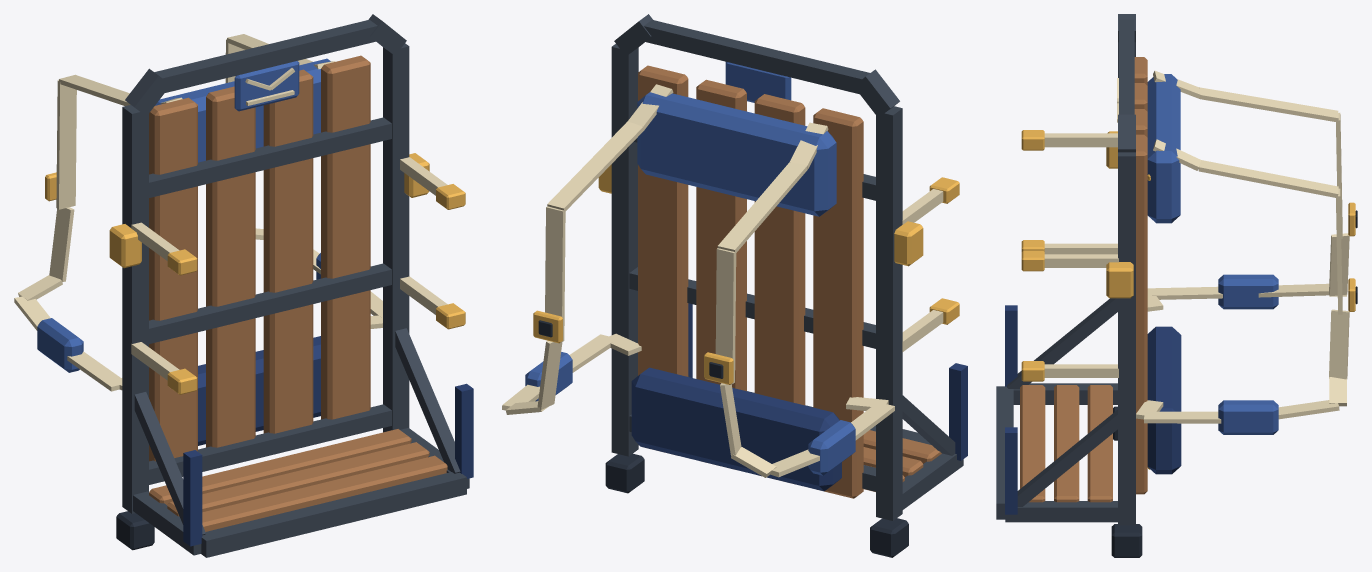
Rendered from itm_courier_frame.glb.
The picture shows the model from 3 angles, left to right: view 1: azimuth 30°, elevation 25°; view 2: azimuth 150°, elevation 25°; view 3: azimuth 270°, elevation 25°; orthographic projection. The views are drawn at different scales.
Visible parts, largest first — view 1: itm_courier_frame, itm_courier_frame__vertical_frame_left, itm_courier_frame__vertical_frame_right, itm_courier_frame__shelf_front_rail, itm_courier_frame__shelf_brace_left, itm_courier_frame__shelf_brace_right, itm_courier_frame__upper_back_pad, itm_courier_frame__lumbar_pad, itm_courier_frame__mail_badge_plate, itm_courier_frame__cargo_retainer_right, itm_courier_frame__cargo_retainer_left, itm_courier_frame__hip_webbing_right (+5 smaller); view 2: itm_courier_frame, itm_courier_frame__upper_back_pad, itm_courier_frame__lumbar_pad, itm_courier_frame__vertical_frame_right, itm_courier_frame__vertical_frame_left, itm_courier_frame__hip_webbing_right, itm_courier_frame__mail_badge_plate, itm_courier_frame__cargo_retainer_right, itm_courier_frame__shelf_side_right, itm_courier_frame__frame_foot_left, itm_courier_frame__frame_foot_right, itm_courier_frame__shelf_brace_right (+6 smaller); view 3: itm_courier_frame, itm_courier_frame__vertical_frame_left, itm_courier_frame__upper_back_pad, itm_courier_frame__lumbar_pad, itm_courier_frame__shelf_side_left, itm_courier_frame__hip_webbing_left, itm_courier_frame__shelf_brace_left, itm_courier_frame__hip_webbing_right, itm_courier_frame__shelf_brace_right, itm_courier_frame__shelf_front_rail, itm_courier_frame__cargo_retainer_left, itm_courier_frame__frame_foot_left (+4 smaller).
Boxes of the visible parts, x1,y1,x2,y2 form: itm_courier_frame: (14, 19, 465, 531); itm_courier_frame__vertical_frame_left: (383, 43, 409, 432); itm_courier_frame__vertical_frame_right: (122, 105, 148, 513); itm_courier_frame__shelf_front_rail: (201, 472, 466, 557); itm_courier_frame__shelf_brace_left: (395, 328, 460, 473); itm_courier_frame__shelf_brace_right: (134, 392, 205, 535); itm_courier_frame__upper_back_pad: (155, 58, 330, 162); itm_courier_frame__lumbar_pad: (198, 336, 320, 445); itm_courier_frame__mail_badge_plate: (234, 61, 299, 111); itm_courier_frame__cargo_retainer_right: (183, 450, 202, 546); itm_courier_frame__cargo_retainer_left: (455, 383, 473, 478); itm_courier_frame__hip_webbing_right: (37, 318, 83, 372); itm_courier_frame: (502, 20, 959, 498); itm_courier_frame__upper_back_pad: (637, 92, 836, 216); itm_courier_frame__lumbar_pad: (631, 367, 841, 491); itm_courier_frame__vertical_frame_right: (876, 106, 902, 520); itm_courier_frame__vertical_frame_left: (611, 44, 638, 456); itm_courier_frame__hip_webbing_right: (808, 420, 855, 475); itm_courier_frame__mail_badge_plate: (725, 61, 791, 102); itm_courier_frame__cargo_retainer_right: (949, 363, 967, 460); itm_courier_frame__shelf_side_right: (902, 453, 963, 509); itm_courier_frame__frame_foot_left: (605, 453, 644, 493); itm_courier_frame__frame_foot_right: (870, 518, 908, 557); itm_courier_frame__shelf_brace_right: (902, 395, 955, 455); itm_courier_frame: (1020, 19, 1349, 502); itm_courier_frame__vertical_frame_left: (1118, 152, 1135, 525); itm_courier_frame__upper_back_pad: (1147, 74, 1180, 223); itm_courier_frame__lumbar_pad: (1147, 326, 1181, 474); itm_courier_frame__shelf_side_left: (1005, 501, 1117, 522); itm_courier_frame__hip_webbing_left: (1218, 400, 1278, 434); itm_courier_frame__shelf_brace_left: (1017, 409, 1117, 506); itm_courier_frame__hip_webbing_right: (1218, 274, 1278, 309); itm_courier_frame__shelf_brace_right: (1007, 298, 1117, 389); itm_courier_frame__shelf_front_rail: (996, 386, 1013, 519); itm_courier_frame__cargo_retainer_left: (1005, 427, 1017, 514); itm_courier_frame__frame_foot_left: (1111, 524, 1142, 557).
Bounding box in the file's own units: 0.568 × 0.821 × 0.625.
